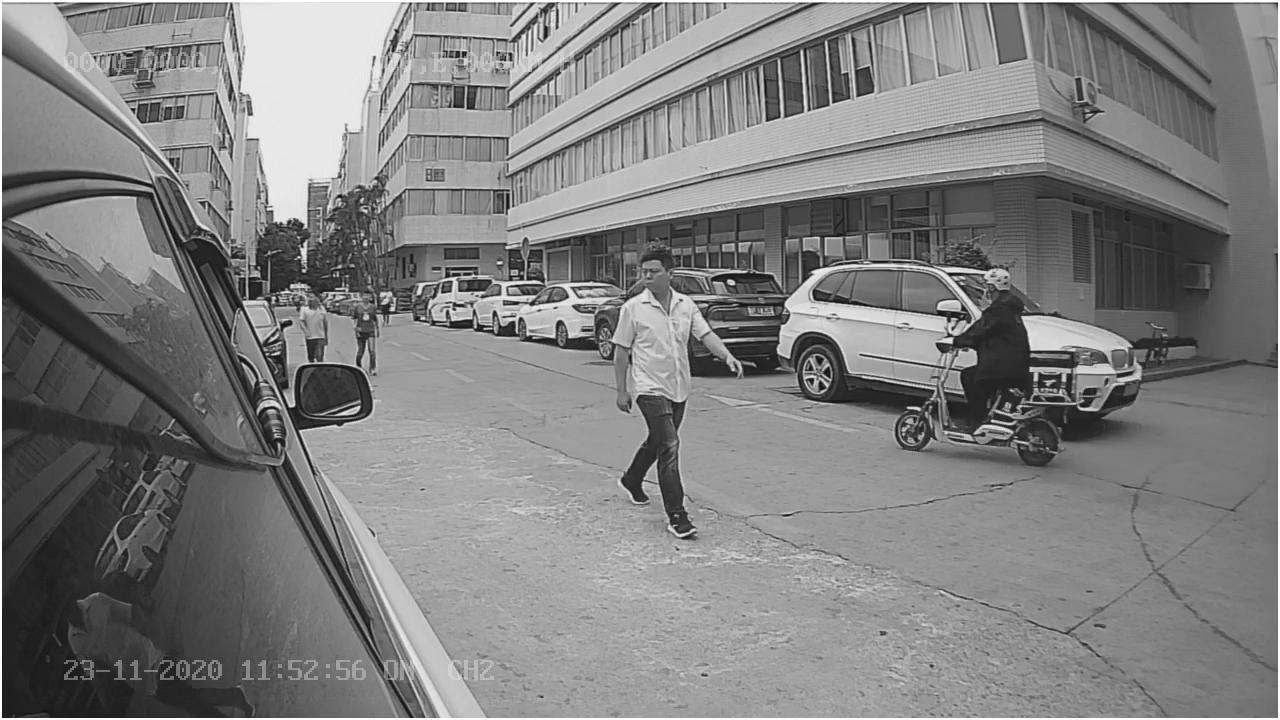person: (607, 250, 723, 543)
